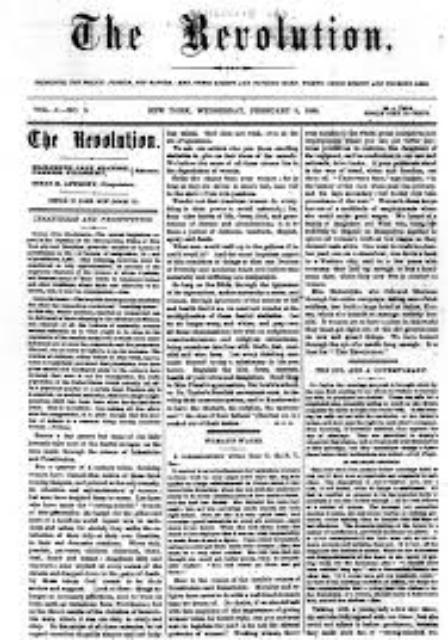cardboard paper: (17, 0, 442, 638)
